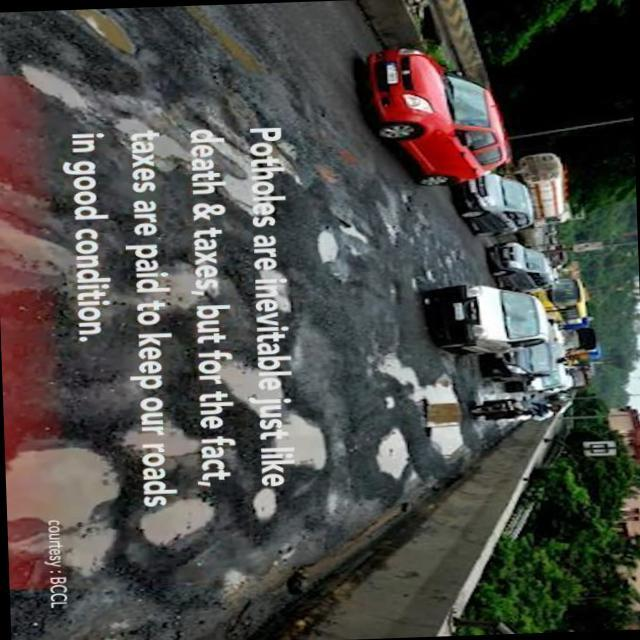pothole: (0, 193, 236, 323), (98, 88, 301, 228), (5, 437, 123, 532), (371, 352, 465, 460), (208, 354, 284, 426), (18, 57, 102, 117), (19, 527, 110, 572), (60, 9, 134, 60), (138, 499, 216, 545), (265, 412, 326, 469), (123, 422, 197, 463), (368, 428, 410, 476), (256, 261, 289, 312), (312, 227, 341, 261), (250, 485, 279, 516), (378, 207, 400, 243), (343, 220, 374, 245), (382, 274, 397, 299)
